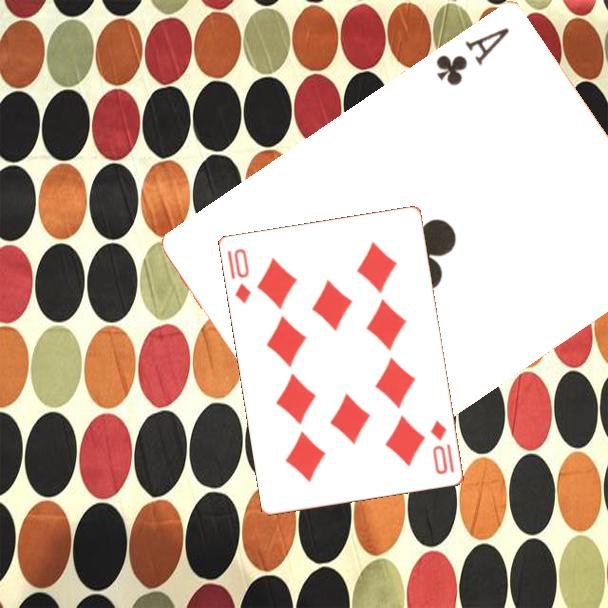c01: (432, 23, 513, 88)
d10: (224, 245, 254, 307), (427, 417, 457, 478)
